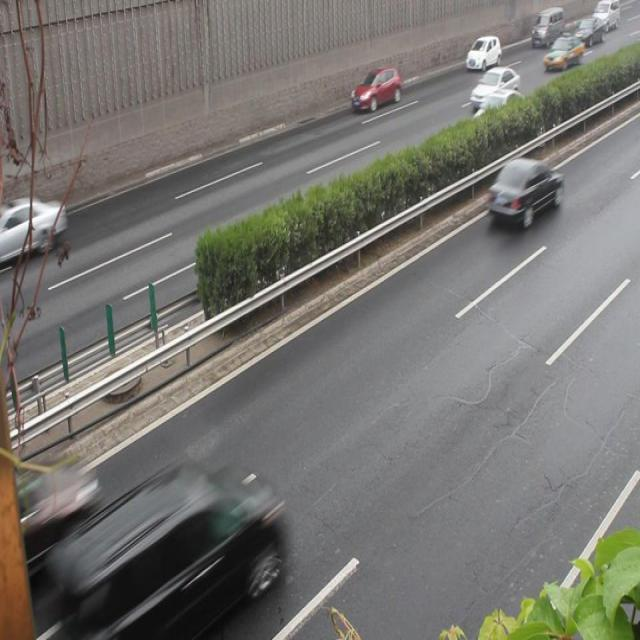car: (62, 462, 284, 640), (0, 451, 96, 550), (486, 157, 562, 231), (469, 90, 530, 143), (352, 68, 399, 113), (468, 67, 518, 107), (463, 35, 501, 73)
